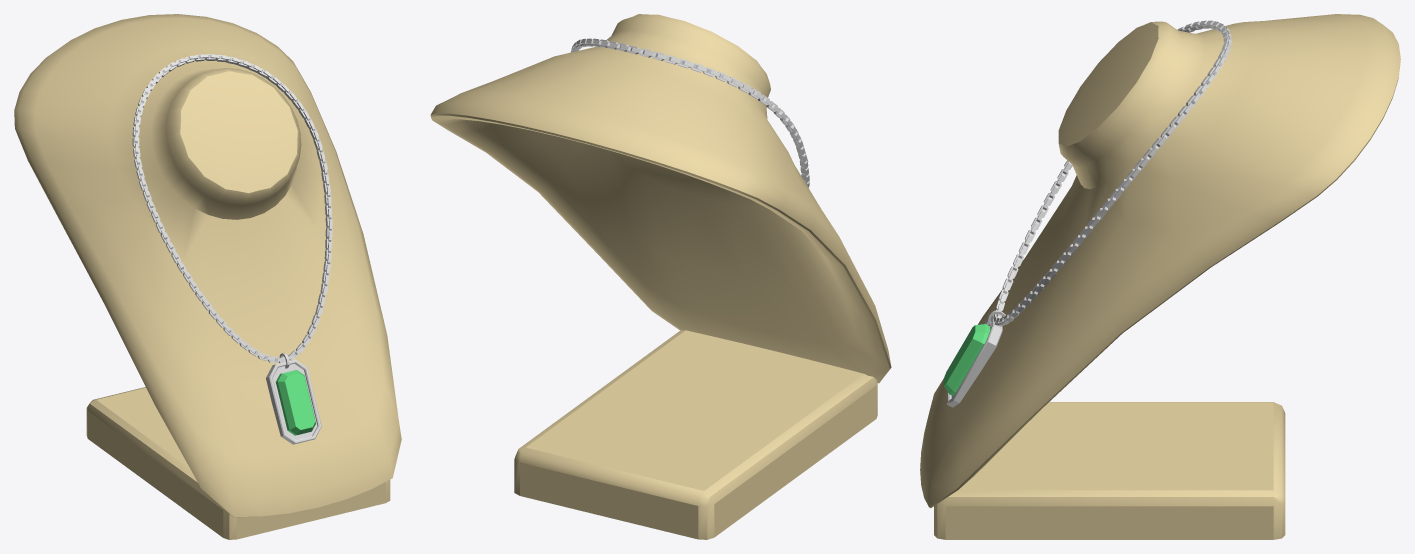
File: Necklace_14.fbx
The picture shows the model from 3 angles, left to right: view 1: azimuth 30°, elevation 25°; view 2: azimuth 150°, elevation 25°; view 3: azimuth 270°, elevation 25°; orthographic projection. The views are drawn at different scales.
Parts seen in each view (by area): view 1: SM_Stand_Necklace_13, SM_Necklace_15, SM_Cullon_2; view 2: SM_Stand_Necklace_13, SM_Necklace_15; view 3: SM_Stand_Necklace_13, SM_Necklace_15, SM_Cullon_2.
Boxes of the visible parts, x1,y1,x2,y2 form: SM_Stand_Necklace_13: (14, 14, 401, 539); SM_Necklace_15: (132, 54, 332, 363); SM_Cullon_2: (266, 352, 321, 444); SM_Stand_Necklace_13: (430, 14, 891, 539); SM_Necklace_15: (570, 38, 809, 188); SM_Stand_Necklace_13: (920, 14, 1400, 539); SM_Necklace_15: (993, 20, 1231, 326); SM_Cullon_2: (943, 310, 1005, 407).
Bounding box in the file's own units: 22.51 × 29.29 × 27.78.
